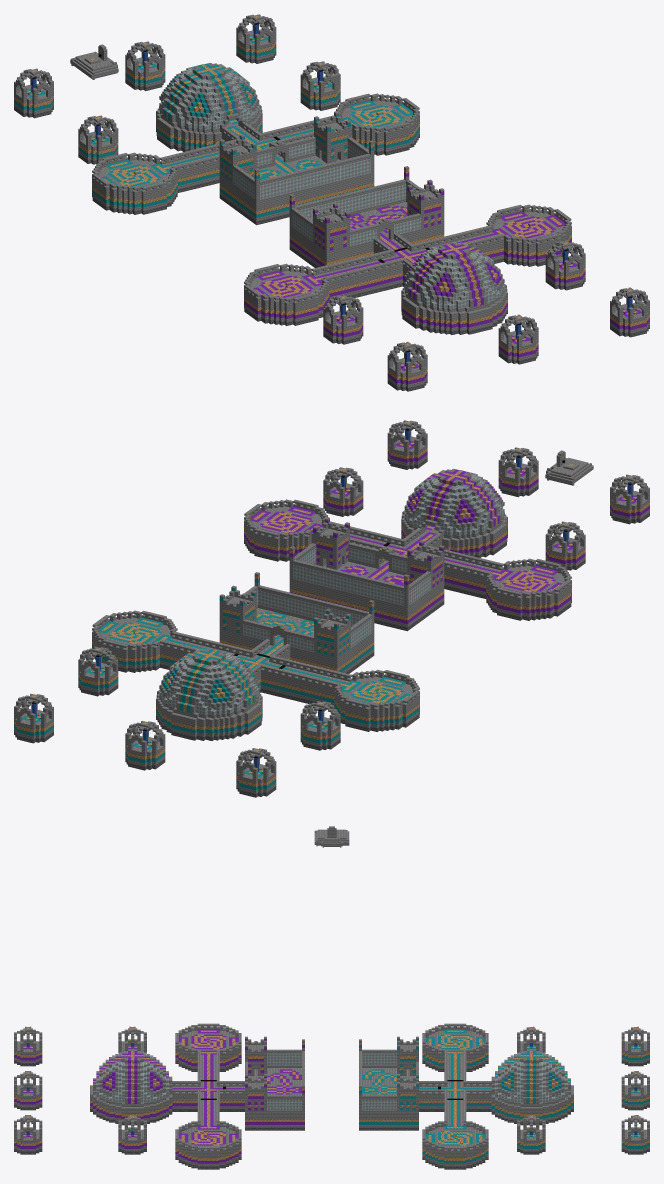
Rendered from minecraft.obj.
The picture shows the model from 3 angles, top to bottom: view 1: azimuth 30°, elevation 25°; view 2: azimuth 150°, elevation 25°; view 3: azimuth 270°, elevation 25°; orthographic projection. The views are drawn at different scales.
Size of the model in its own units: 121 by 66 by 201.
